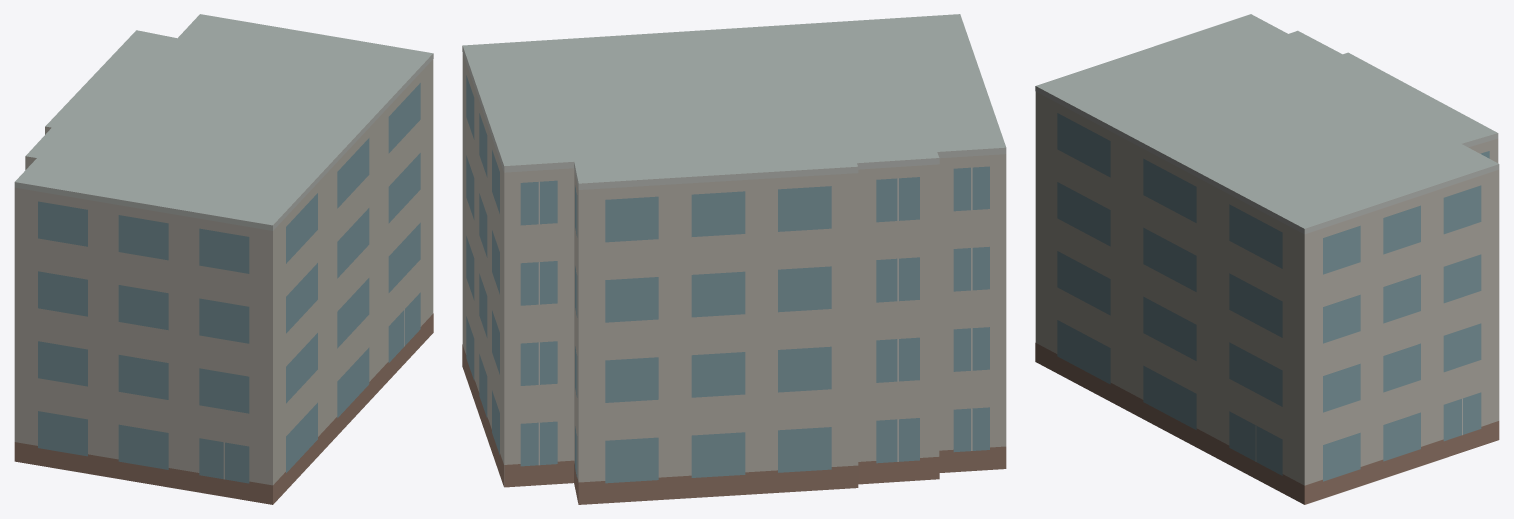
The model's file is survey-upis-32993886.glb.
3 renders of one model, left to right at view 1: azimuth 30°, elevation 25°; view 2: azimuth 150°, elevation 25°; view 3: azimuth 270°, elevation 25°, orthographic. The views are drawn at different scales.
Visible parts, largest first — view 1: survey-upis-32993886.tmp; view 2: survey-upis-32993886.tmp; view 3: survey-upis-32993886.tmp.
Boxes of the visible parts, box(x1,y1,x2,y2) form: survey-upis-32993886.tmp: box(14, 14, 433, 504); survey-upis-32993886.tmp: box(462, 14, 1006, 504); survey-upis-32993886.tmp: box(1035, 14, 1499, 504).
Size of the model in its own units: 20.38 by 12.2 by 18.59.
